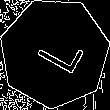L_NW: (25, 27, 83, 79)
